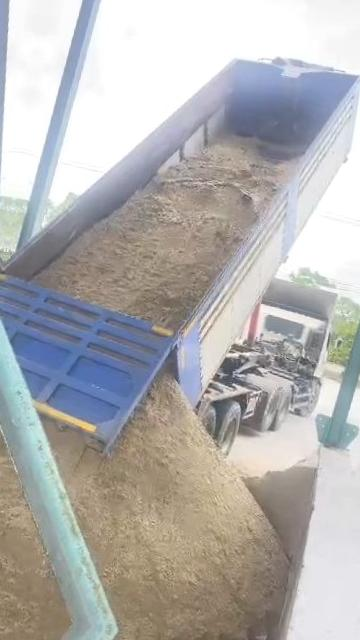sand: (44, 387, 314, 640), (34, 138, 295, 329), (0, 407, 70, 623)
